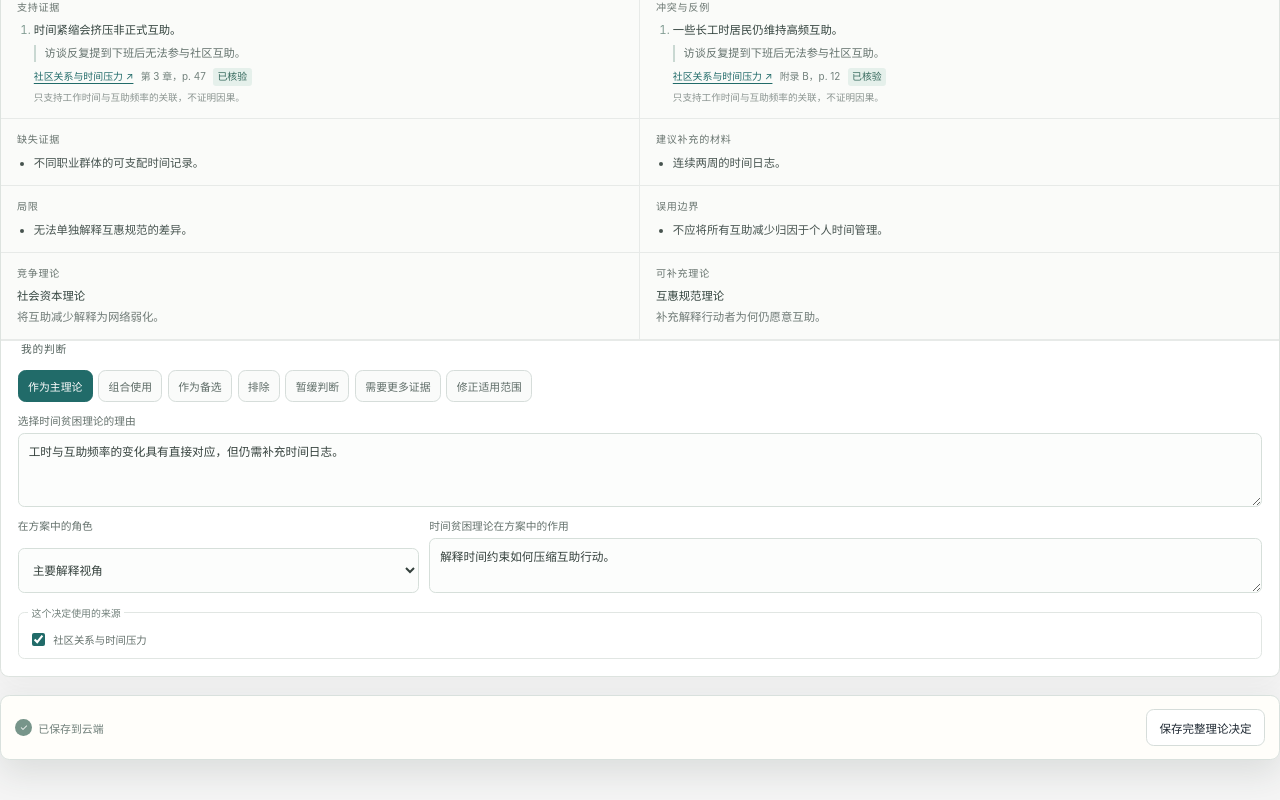
Test: M4TheoryJudgment › survives an autosave conflict by restoring the newer server draft
This screenshot has width=1280, height=800.
(page scrolled)
Replace the text in the text box labelled "选择时间贫困理论的理由" with "本页的未保存理由。" at [640, 470], box [18, 433, 1262, 507]
Wait 750 ms
(page scrolled)
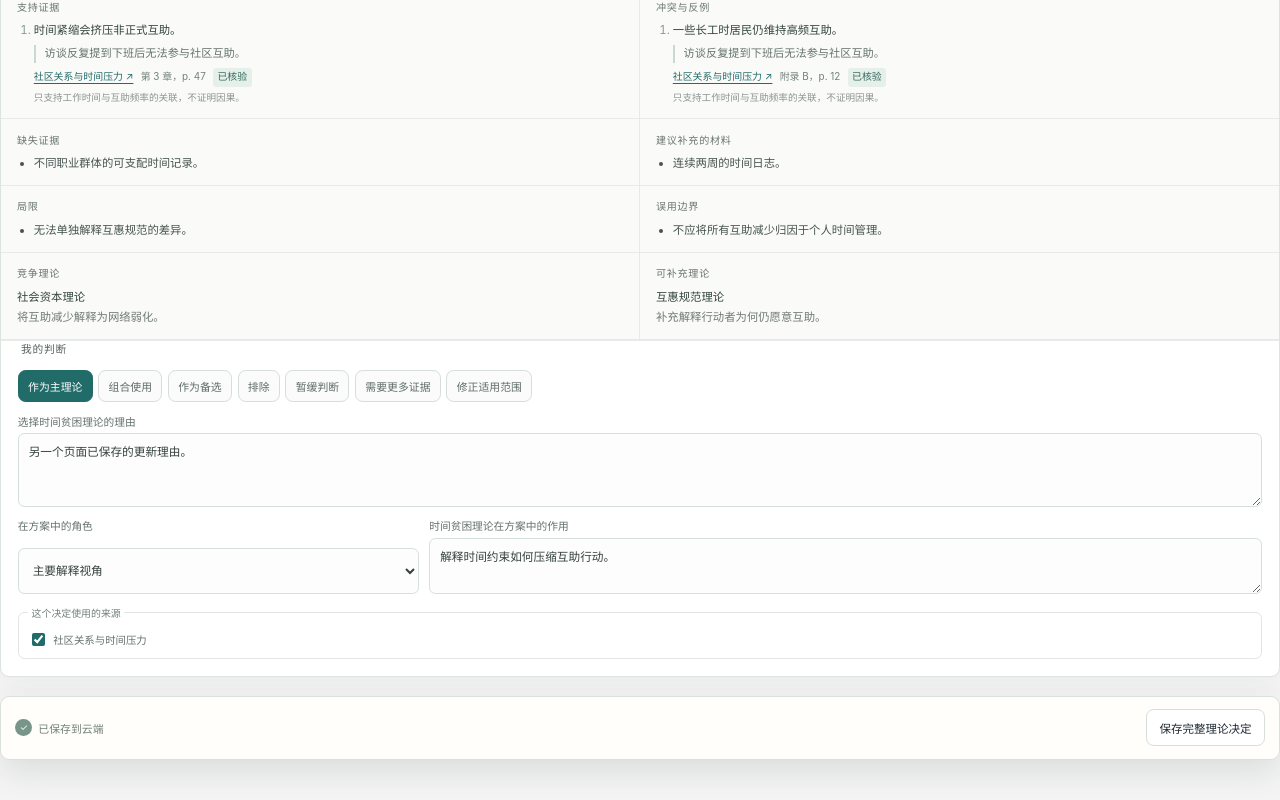
Now the text box labelled "选择时间贫困理论的理由" holds "另一个页面已保存的更新理由。", box [18, 433, 1262, 507]
